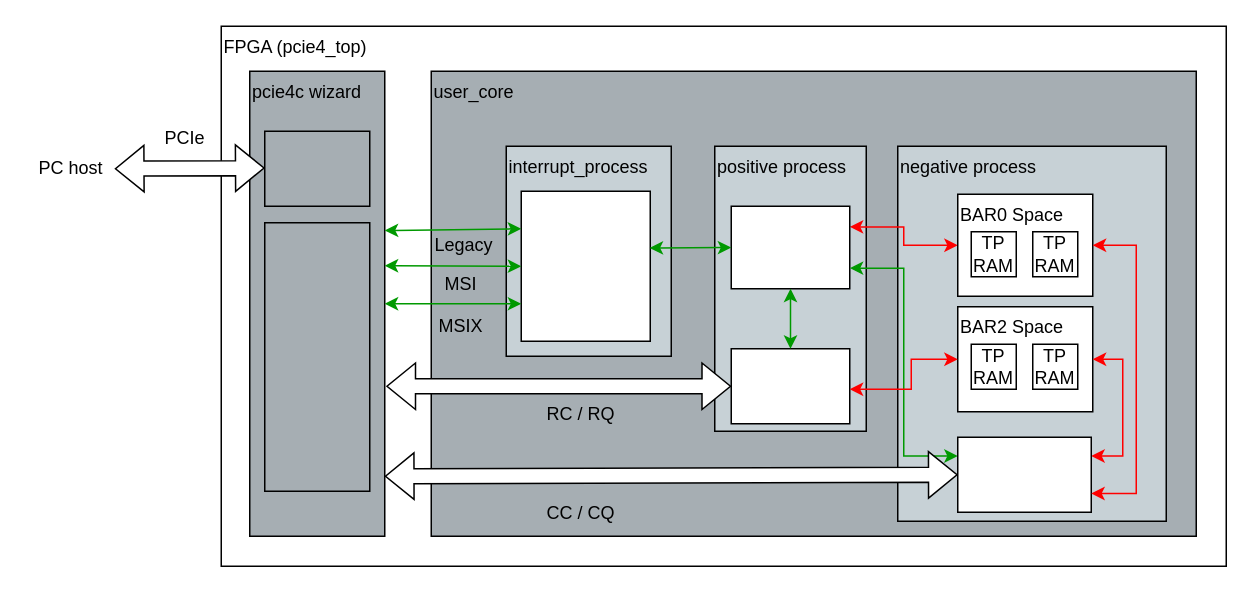
Some shapes in this 1253 by 593 pixel diagram are drawn without their labels. Each missing label, with the centre of its shape:
Control FSM: (x=1023, y=474)
GT: (x=316, y=168)
Legacy / MSI / MSIX generate FSM: (x=585, y=265)
PCIE4C: (x=316, y=356)
simple dma FSM: (x=790, y=385)
snoop FSM: (x=790, y=247)
